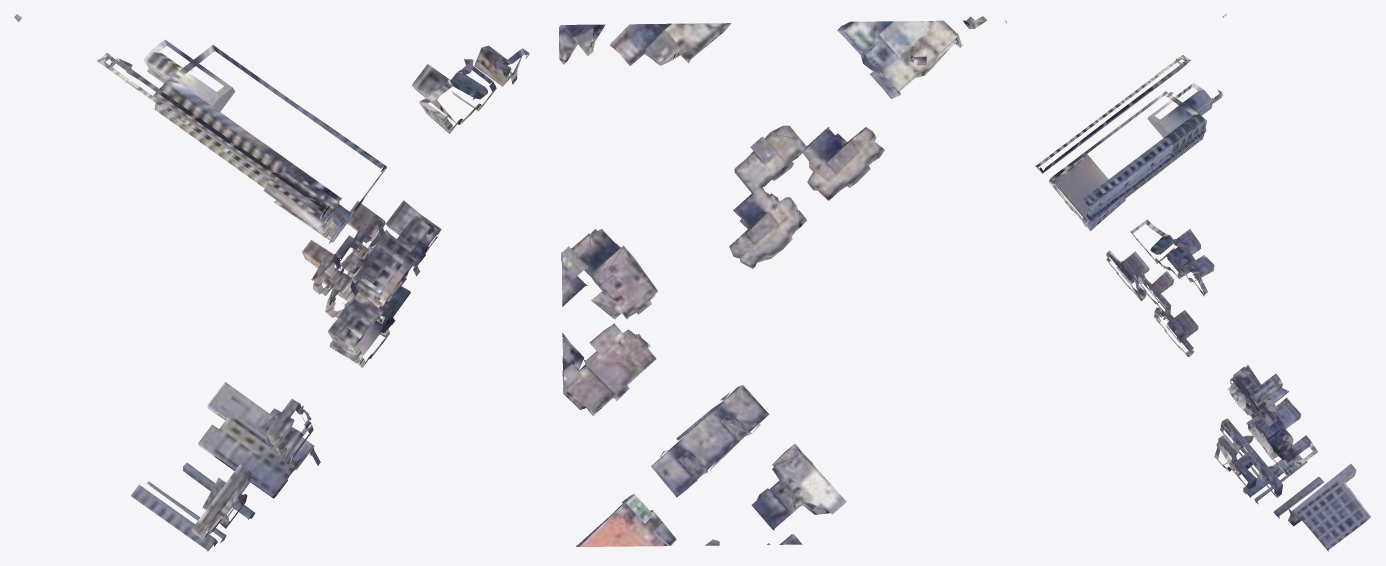
3 renders of one model, left to right at view 1: azimuth 30°, elevation 25°; view 2: azimuth 150°, elevation 25°; view 3: azimuth 270°, elevation 25°, orthographic. The views are drawn at different scales.
Size of the model in its own units: 158 by 183 by 135.
1 material, 1 textured.
